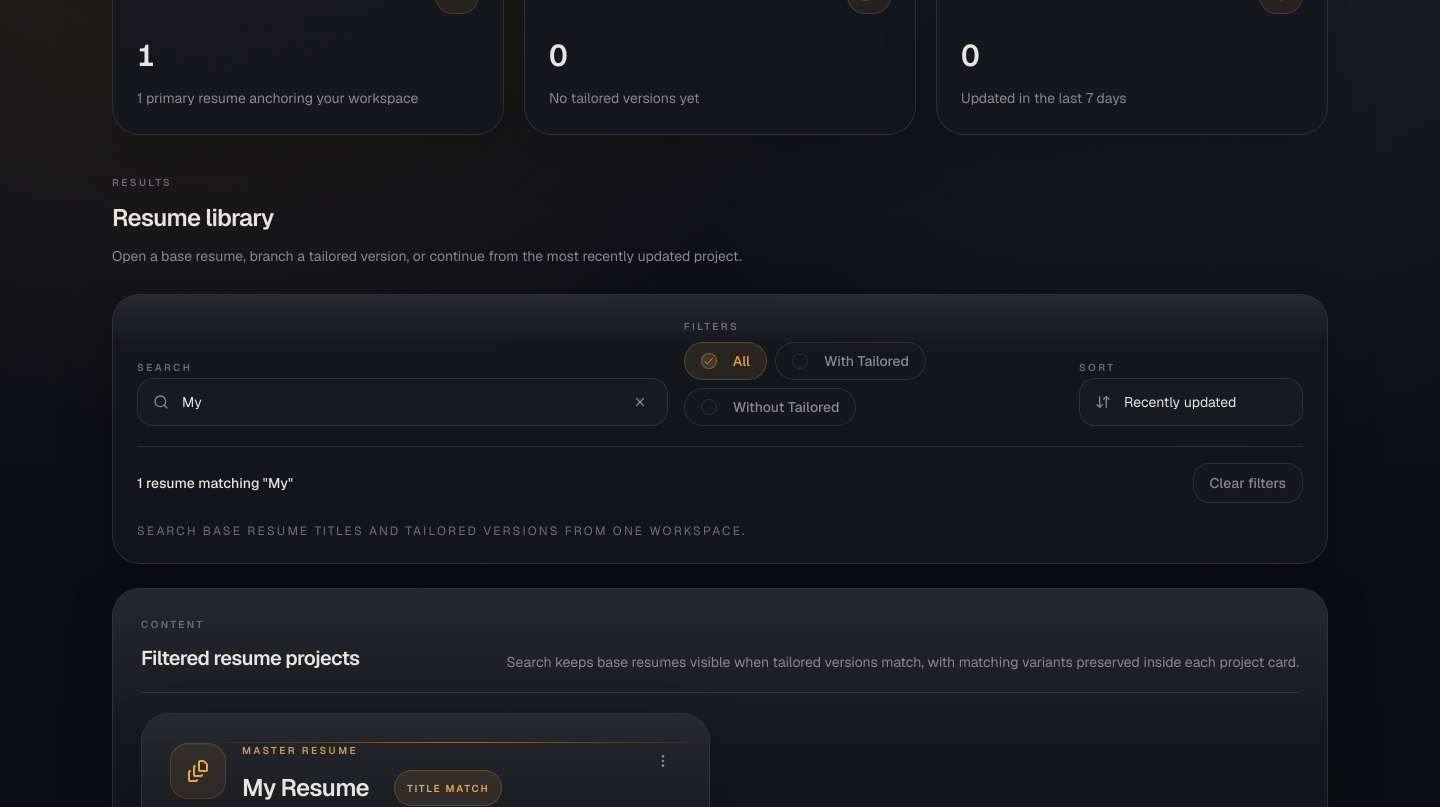
Test: DashboardPageClient › search clear button (X icon) › clears the search query and updates URL when the X button is clicked
(page scrolled)
Expected: the search field labelled "Search" holds "My", [137,378,668,426]
Click the button named "Clear search". click: (640, 402)
box: [624,386,656,418]
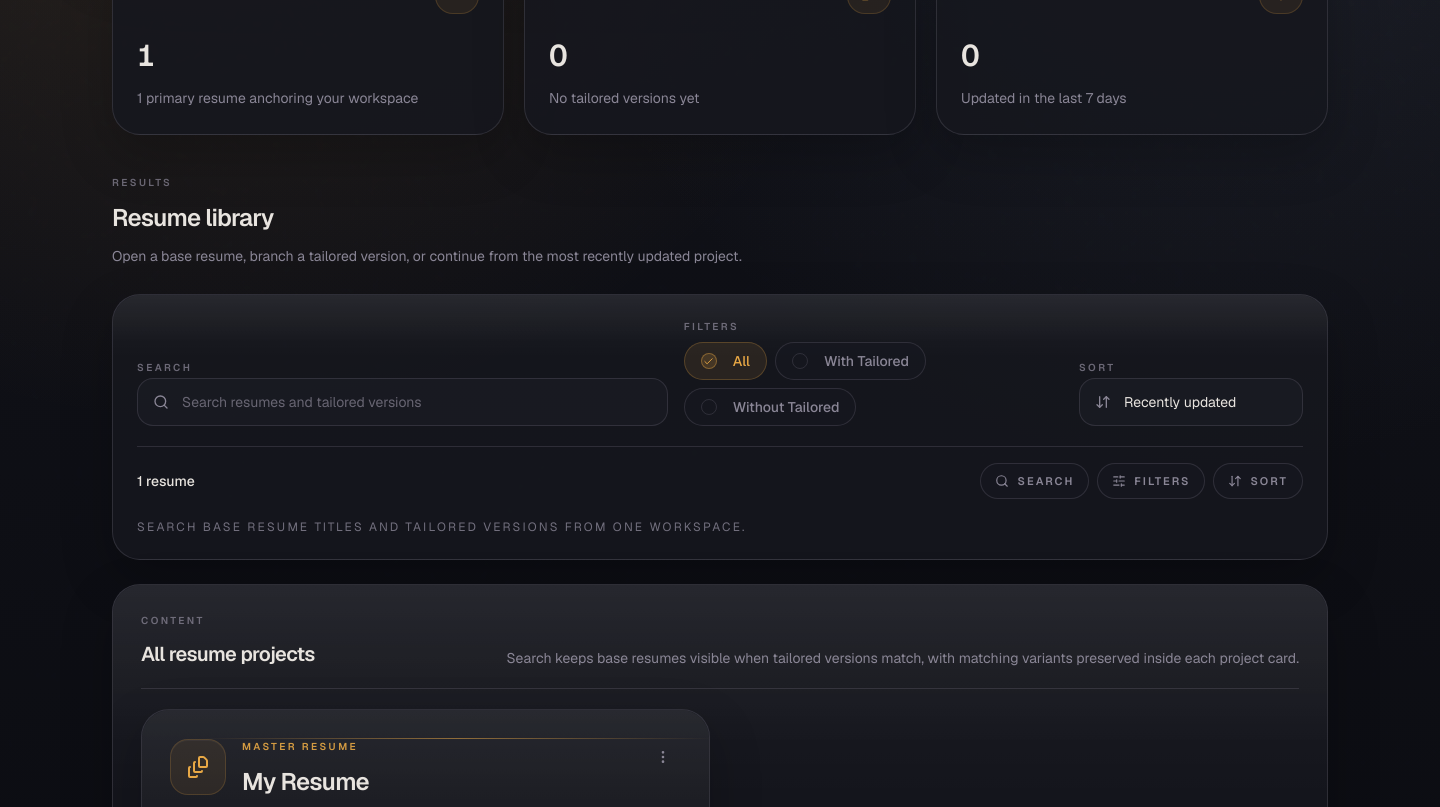
Expected: the search field labelled "Search" is empty, [137,378,668,426]
